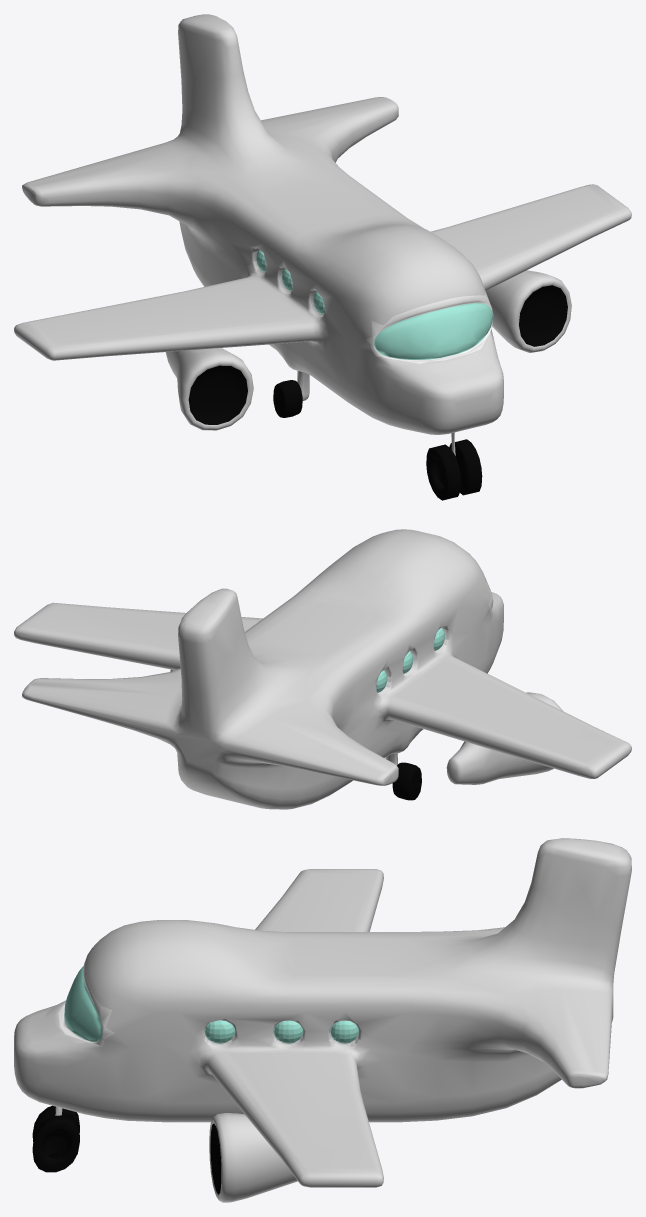
The model's file is fat plane.fbx.
The picture shows the model from 3 angles, top to bottom: view 1: azimuth 30°, elevation 25°; view 2: azimuth 150°, elevation 25°; view 3: azimuth 270°, elevation 25°; orthographic projection. The views are drawn at different scales.
Parts seen in each view (by area): view 1: plane; view 2: plane; view 3: plane.
Part boxes in pixels (bbox=[...]): plane: bbox=[14, 14, 631, 500]; plane: bbox=[14, 529, 631, 809]; plane: bbox=[14, 838, 631, 1202].
Bounding box in the file's own units: 196 × 95.22 × 166.
